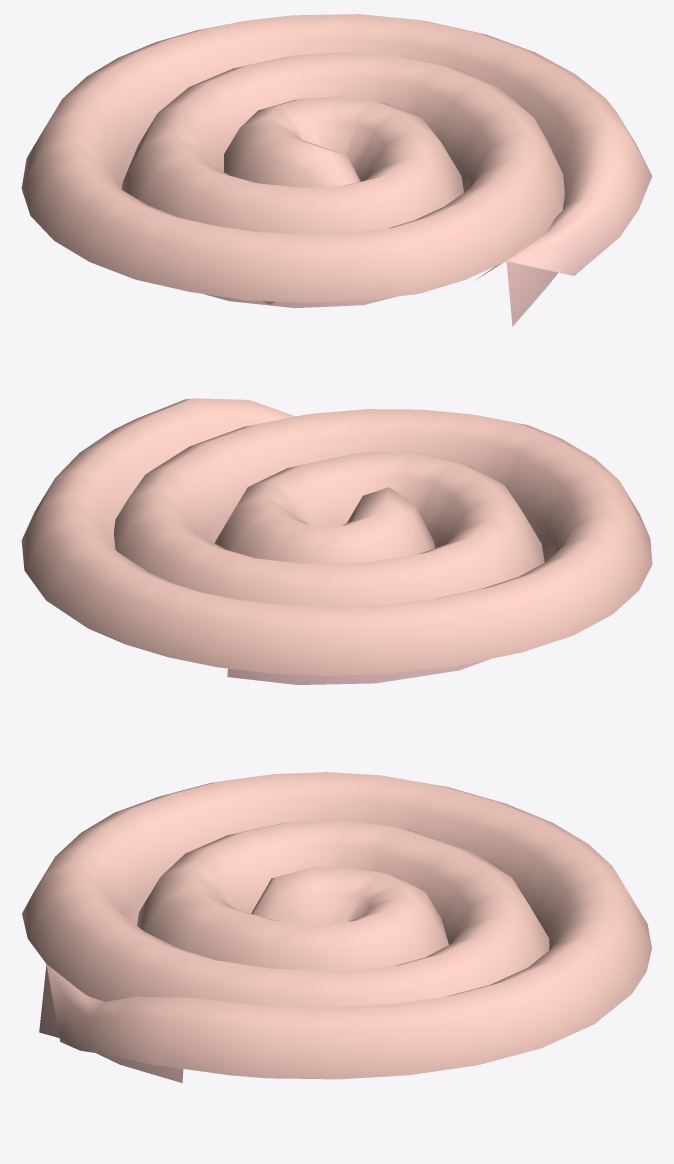
Rendered from Snail_bun_half_light_glaze.fbx.
The picture shows the model from 3 angles, top to bottom: view 1: azimuth 30°, elevation 25°; view 2: azimuth 150°, elevation 25°; view 3: azimuth 270°, elevation 25°; orthographic projection. The views are drawn at different scales.
Parts seen in each view (by area): view 1: Snail_bun_half_light_glaze; view 2: Snail_bun_half_light_glaze; view 3: Snail_bun_half_light_glaze.
Boxes of the visible parts, x1=… form: Snail_bun_half_light_glaze: x1=21, y1=14, x2=652, y2=326; Snail_bun_half_light_glaze: x1=21, y1=398, x2=652, y2=684; Snail_bun_half_light_glaze: x1=22, y1=772, x2=651, y2=1082.
Size of the model in its own units: 119 by 114 by 23.38.
